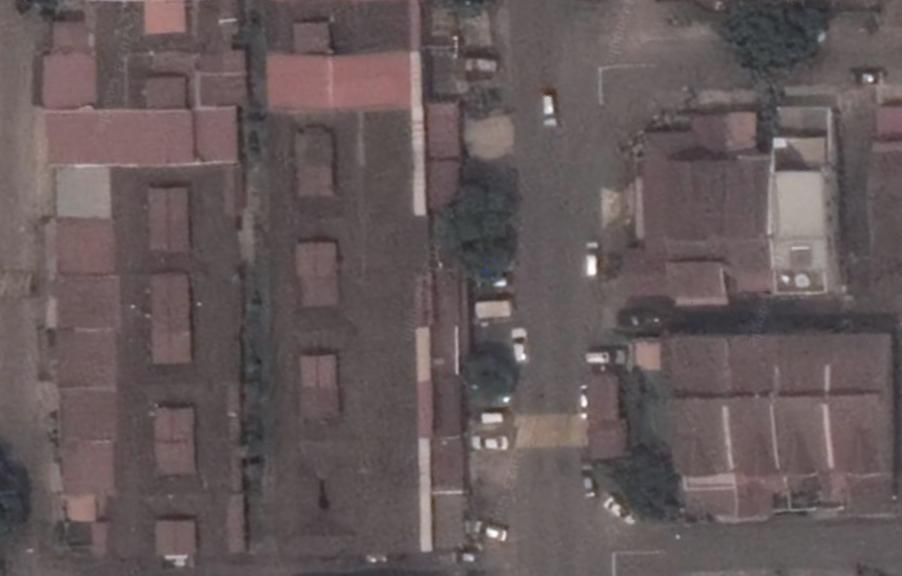building: (609, 104, 772, 301), (258, 328, 433, 392), (773, 137, 840, 297), (263, 440, 432, 502), (255, 274, 432, 333), (108, 491, 254, 562), (253, 53, 424, 113), (253, 216, 428, 274), (252, 113, 427, 168), (266, 496, 430, 554), (257, 383, 429, 438), (670, 338, 736, 481), (250, 1, 422, 53), (833, 333, 895, 477), (97, 106, 242, 167), (98, 52, 247, 108), (116, 325, 245, 389), (777, 332, 833, 474), (252, 168, 428, 213), (115, 381, 241, 442), (728, 336, 782, 477), (108, 442, 246, 495), (116, 272, 242, 330), (108, 167, 241, 221), (111, 218, 244, 272)
